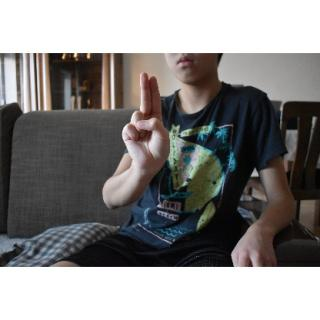TA: (117, 69, 172, 178)
